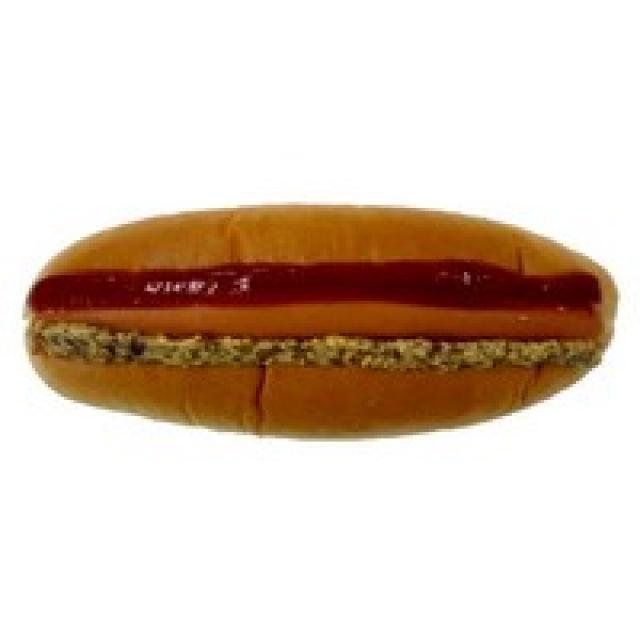Hot Dog: (24, 190, 632, 447)
